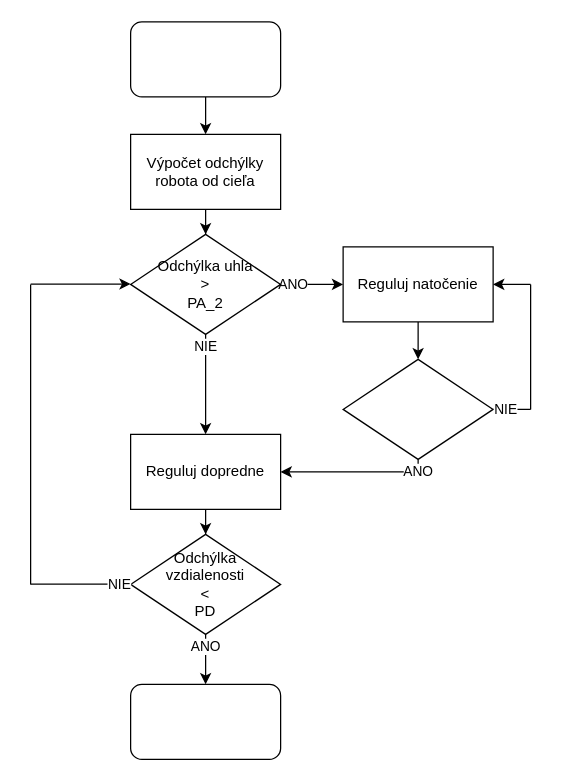
This 563x781 diagram has some shape labels left out. Here are the shapes that lost their labels. From the top down, the centre of each, then its label:
At pixel 205 59: "Zadanie želanej polohy, stlačenie Navigate".
At pixel 417 408: "Odchýlka uhla < PA_1".
At pixel 205 721: "Ukončenie polohovania".
